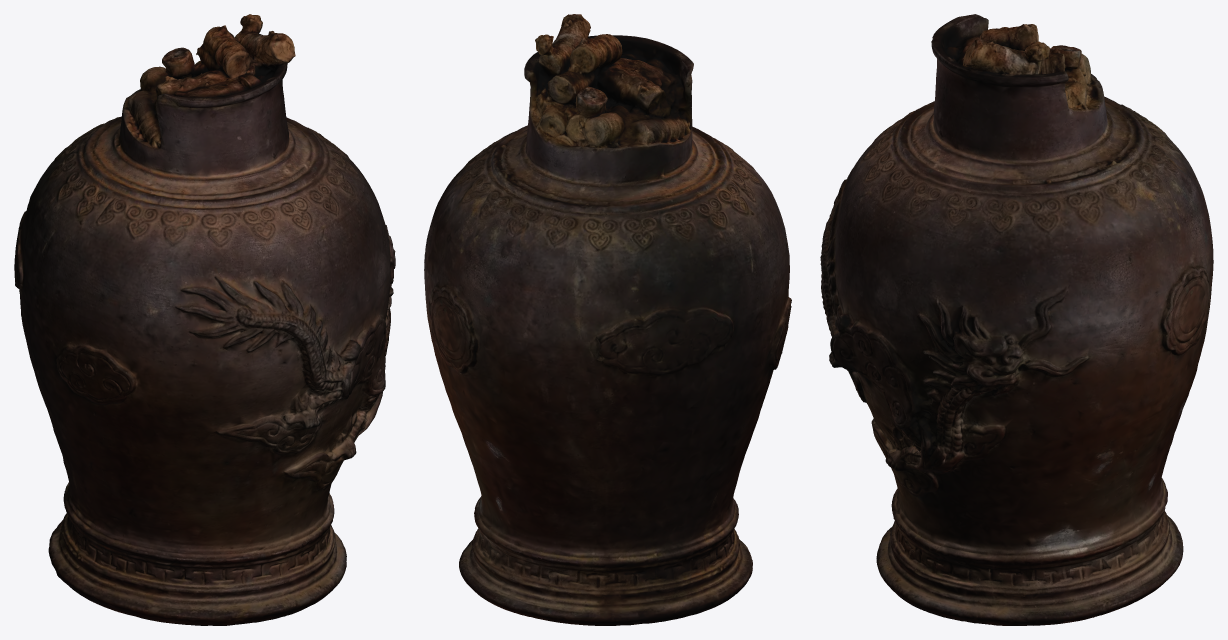
The model's file is hu-tien-dong.glb.
3 views of the same model, side by side, from view 1: azimuth 30°, elevation 25°; view 2: azimuth 150°, elevation 25°; view 3: azimuth 270°, elevation 25° (orthographic). The views are drawn at different scales.
Visible parts, largest first — view 1: Object_4; view 2: Object_4; view 3: Object_4.
Boxes of the visible parts, x1,y1,x2,y2 form: Object_4: (14, 14, 395, 625); Object_4: (424, 14, 791, 625); Object_4: (820, 14, 1213, 625).
Bounding box in the file's own units: 7.42 × 11.49 × 7.36.
1 material, 1 textured.
